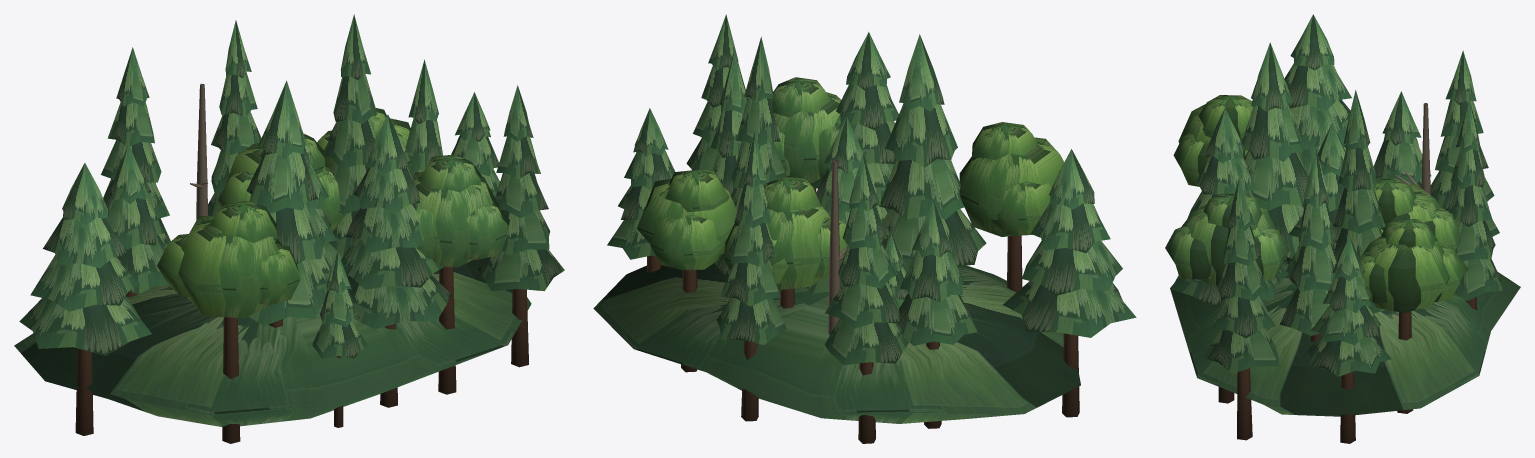
The model's file is forest-mass-e.glb.
The picture shows the model from 3 angles, left to right: view 1: azimuth 30°, elevation 25°; view 2: azimuth 150°, elevation 25°; view 3: azimuth 270°, elevation 25°; orthographic projection. The views are drawn at different scales.
Parts seen in each view (by area): view 1: Needles, Trunk; view 2: Needles, Trunk; view 3: Needles, Trunk.
Boxes of the visible parts, <box> form: Needles: <box>14,14,564,426</box>; Trunk: <box>75,83,528,443</box>; Needles: <box>593,14,1136,423</box>; Trunk: <box>647,160,1079,443</box>; Needles: <box>1165,14,1520,416</box>; Trunk: <box>1218,103,1477,443</box>.
Bounding box in the file's own units: 18.25 × 11.49 × 12.28.
2 materials, 1 textured.
